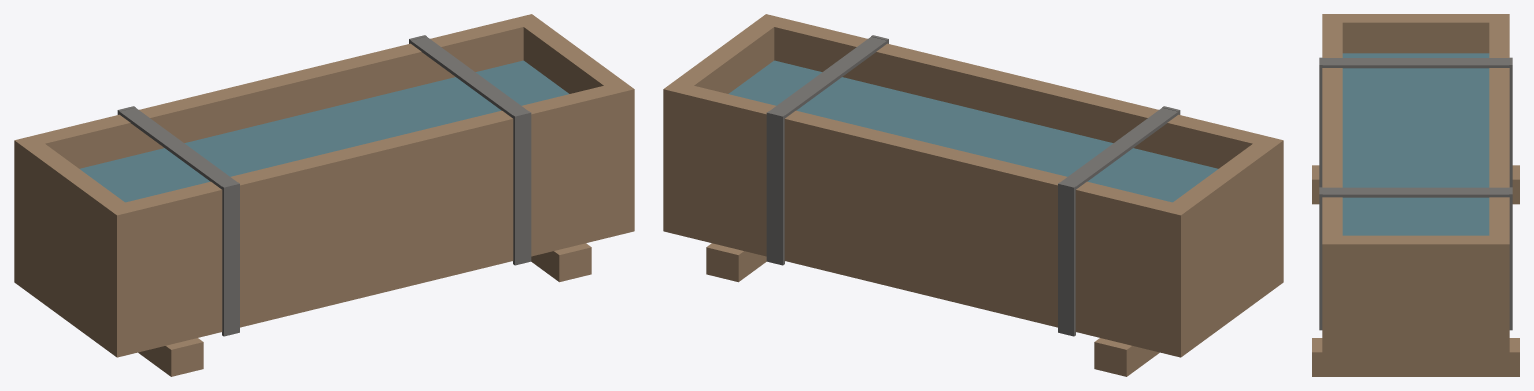
Rendered from prop-trough-wood.fbx.
The picture shows the model from 3 angles, left to right: view 1: azimuth 30°, elevation 25°; view 2: azimuth 150°, elevation 25°; view 3: azimuth 270°, elevation 25°; orthographic projection. The views are drawn at different scales.
Visible parts, largest first — view 1: prop-trough-wood; view 2: prop-trough-wood; view 3: prop-trough-wood.
Boxes of the visible parts, x1=… form: prop-trough-wood: x1=14, y1=14, x2=634, y2=376; prop-trough-wood: x1=663, y1=14, x2=1283, y2=376; prop-trough-wood: x1=1312, y1=14, x2=1519, y2=376.
Bounding box in the file's own units: 1.6 × 0.51 × 0.61.
